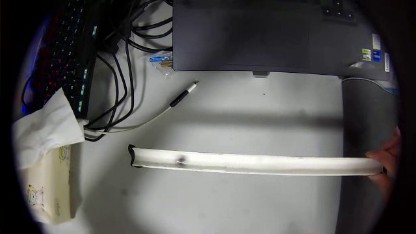gangzhu: (175, 153, 188, 164)
